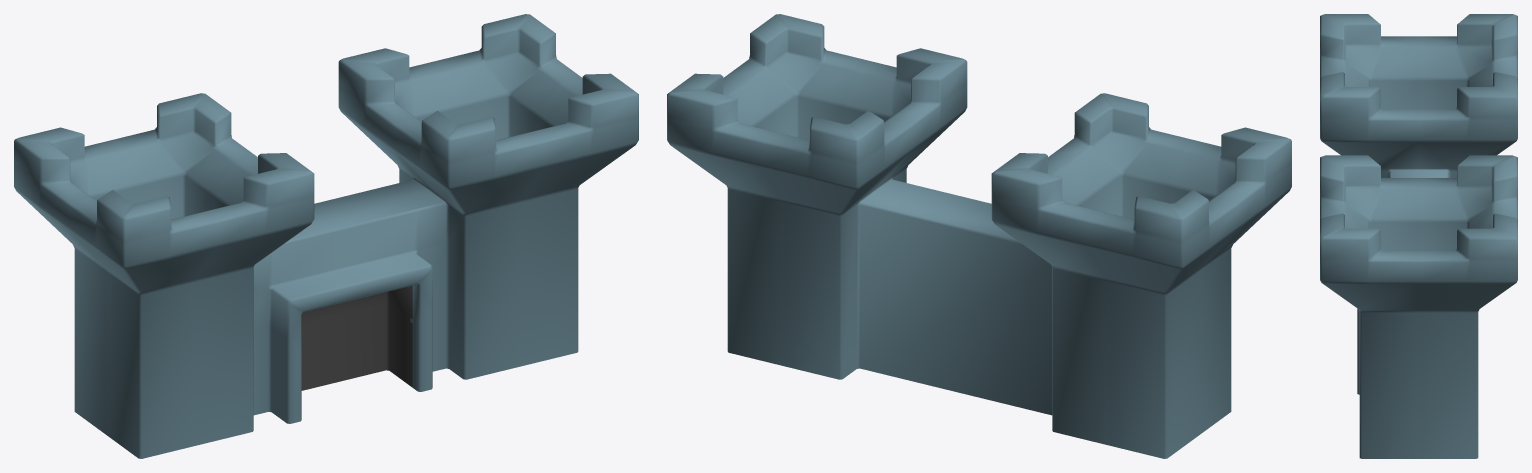
File: gate.001.glb
3 views of the same model, side by side, from view 1: azimuth 30°, elevation 25°; view 2: azimuth 150°, elevation 25°; view 3: azimuth 270°, elevation 25° (orthographic). The views are drawn at different scales.
Parts seen in each view (by area): view 1: gate.001; view 2: gate.001; view 3: gate.001.
Part boxes in pixels (x1,y1,x2,y2): gate.001: (14, 14, 638, 458); gate.001: (667, 14, 1291, 458); gate.001: (1320, 14, 1517, 458).
Size of the model in its own units: 12.73 by 6.26 by 4.73.
